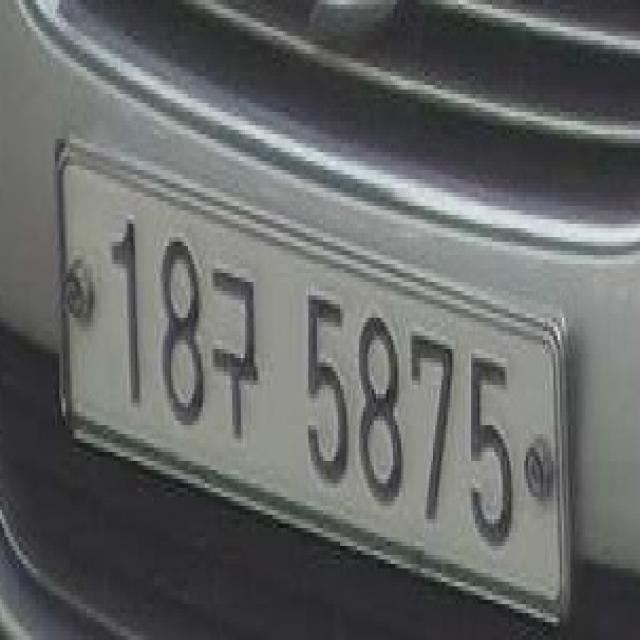1: (110, 210, 146, 426)
5: (460, 336, 518, 564), (296, 273, 352, 497)
7: (406, 318, 458, 532)
8: (352, 300, 406, 519), (154, 224, 207, 438)
gu: (207, 255, 262, 457)
license_plate: (49, 125, 576, 640)
